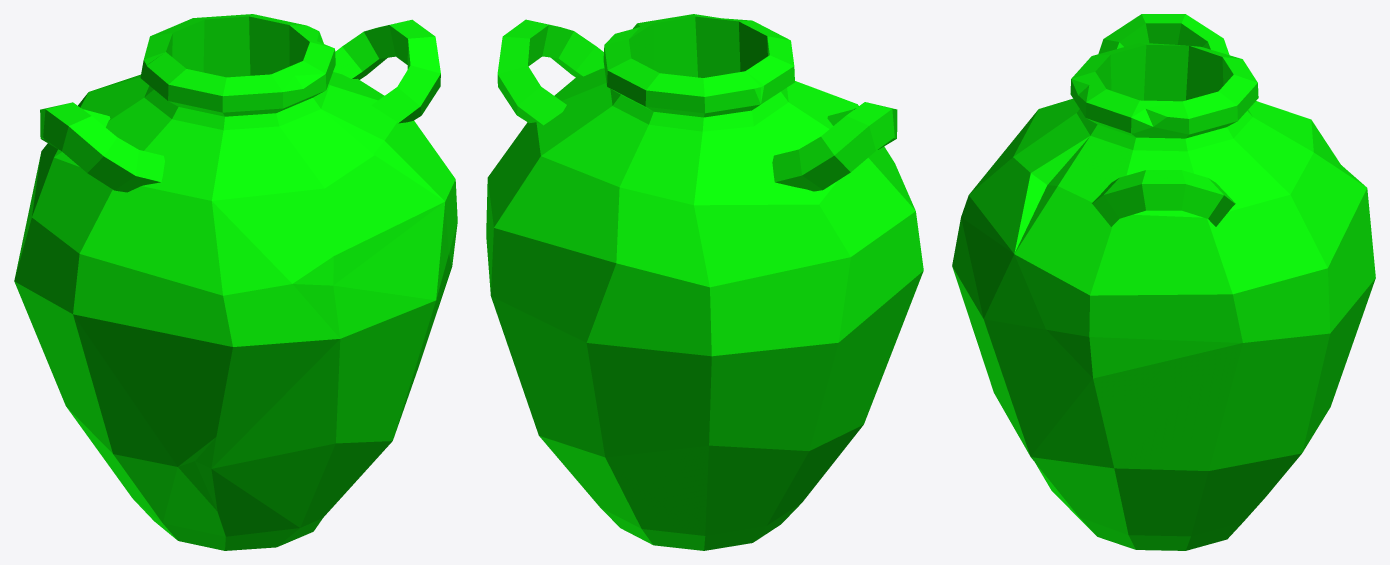
Rendered from SM_Vase_Ceramic_Thick_Fantasy.fbx.
The picture shows the model from 3 angles, left to right: view 1: azimuth 30°, elevation 25°; view 2: azimuth 150°, elevation 25°; view 3: azimuth 270°, elevation 25°; orthographic projection. The views are drawn at different scales.
Visible parts, largest first — view 1: vase-ceramic-thick-fantasy; view 2: vase-ceramic-thick-fantasy; view 3: vase-ceramic-thick-fantasy.
Part boxes in pixels (left/top/right/bottom): vase-ceramic-thick-fantasy: left=14, top=14, right=457, bottom=550; vase-ceramic-thick-fantasy: left=486, top=14, right=923, bottom=550; vase-ceramic-thick-fantasy: left=952, top=14, right=1375, bottom=550.
Size of the model in its own units: 0.6023 by 0.7 by 0.6041.
